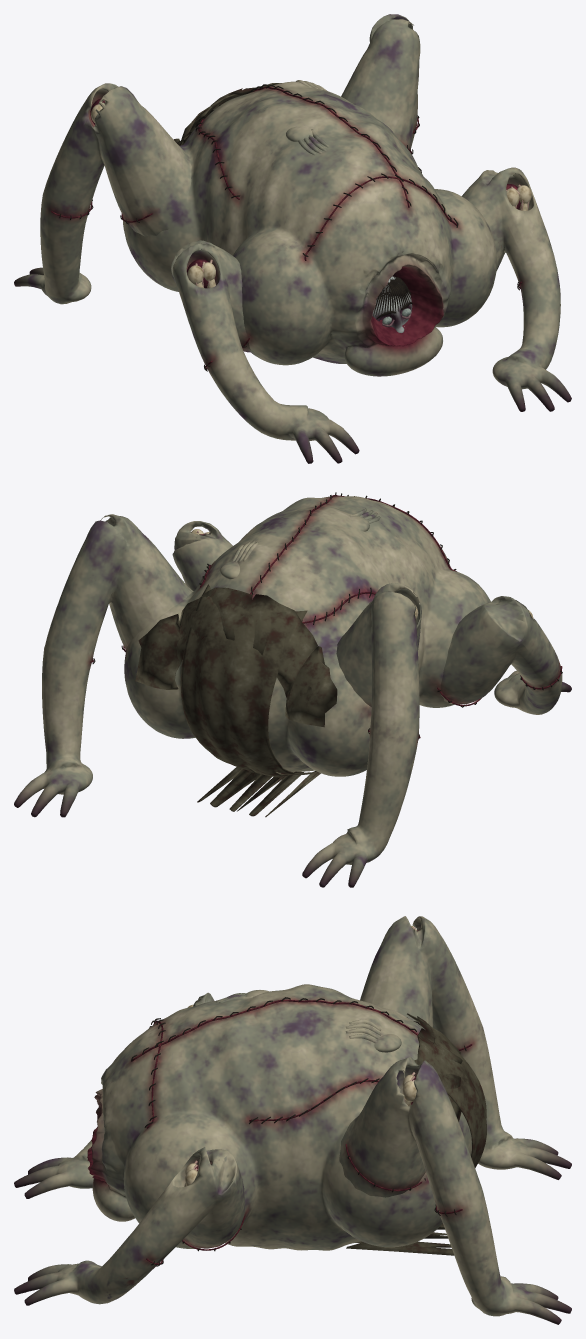
Rendered from boss_2.glb.
The picture shows the model from 3 angles, top to bottom: view 1: azimuth 30°, elevation 25°; view 2: azimuth 150°, elevation 25°; view 3: azimuth 270°, elevation 25°; orthographic projection. The views are drawn at different scales.
Parts seen in each view (by area): view 1: SM_Boss2_Body, SM_Boss2_Details, SM_Boss2_Head; view 2: SM_Boss2_Body, SM_Boss2_Details; view 3: SM_Boss2_Body, SM_Boss2_Details.
Part boxes in pixels (x1,y1,x2,y2): SM_Boss2_Body: (14,14,571,463); SM_Boss2_Details: (51,83,531,371); SM_Boss2_Head: (372,276,412,332); SM_Boss2_Body: (14,496,571,887); SM_Boss2_Details: (90,492,562,817); SM_Boss2_Body: (14,916,571,1324); SM_Boss2_Details: (131,925,486,1266).
Bounding box in the file's own units: 1.9 × 1.2 × 2.4.
3 materials, 3 textured.
